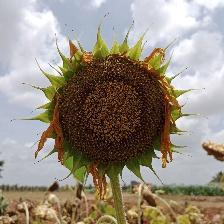sunflower: (24, 9, 214, 202)
